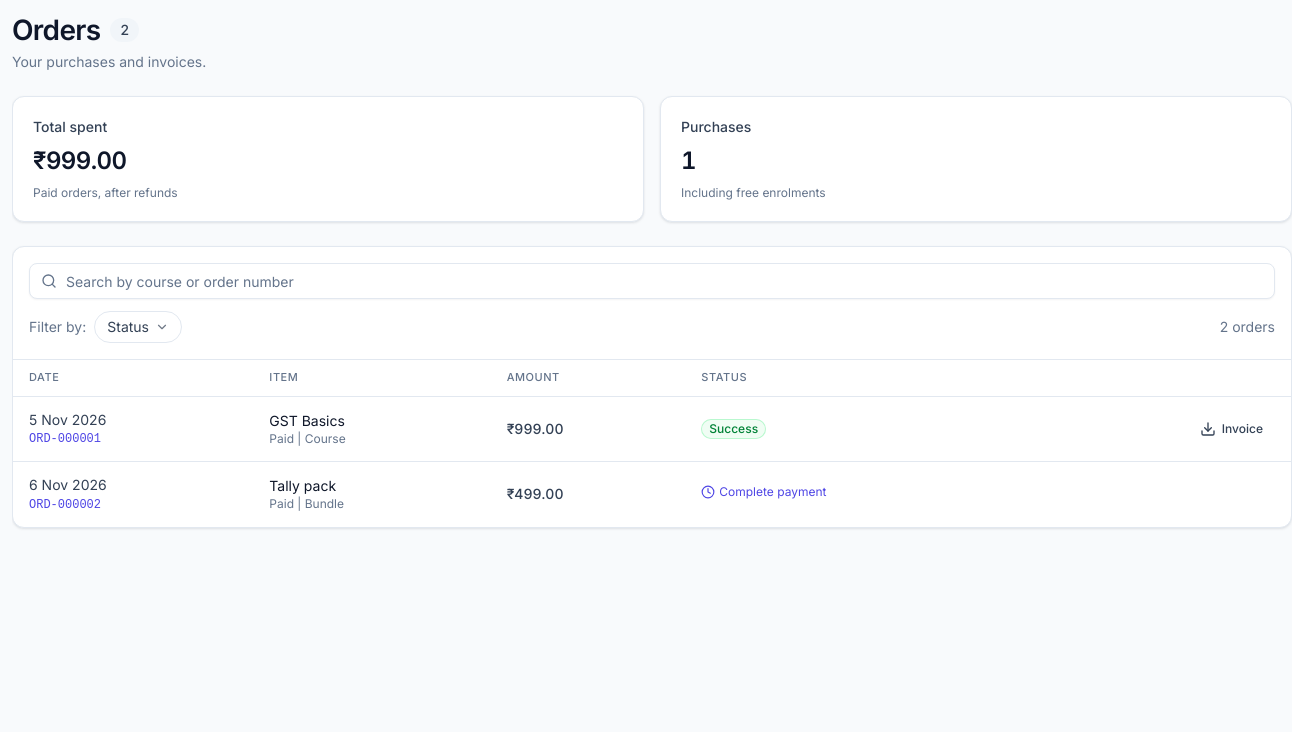
Test: student orders: totals, item type, filter by status and search
Expected: the text "₹999.00" below "Total spent" is shown, [33, 146, 126, 175]
Expected: the text "Paid | Bundle" is shown, [269, 496, 344, 512]
Click the button "Status" at [138, 327], box [94, 311, 182, 343]
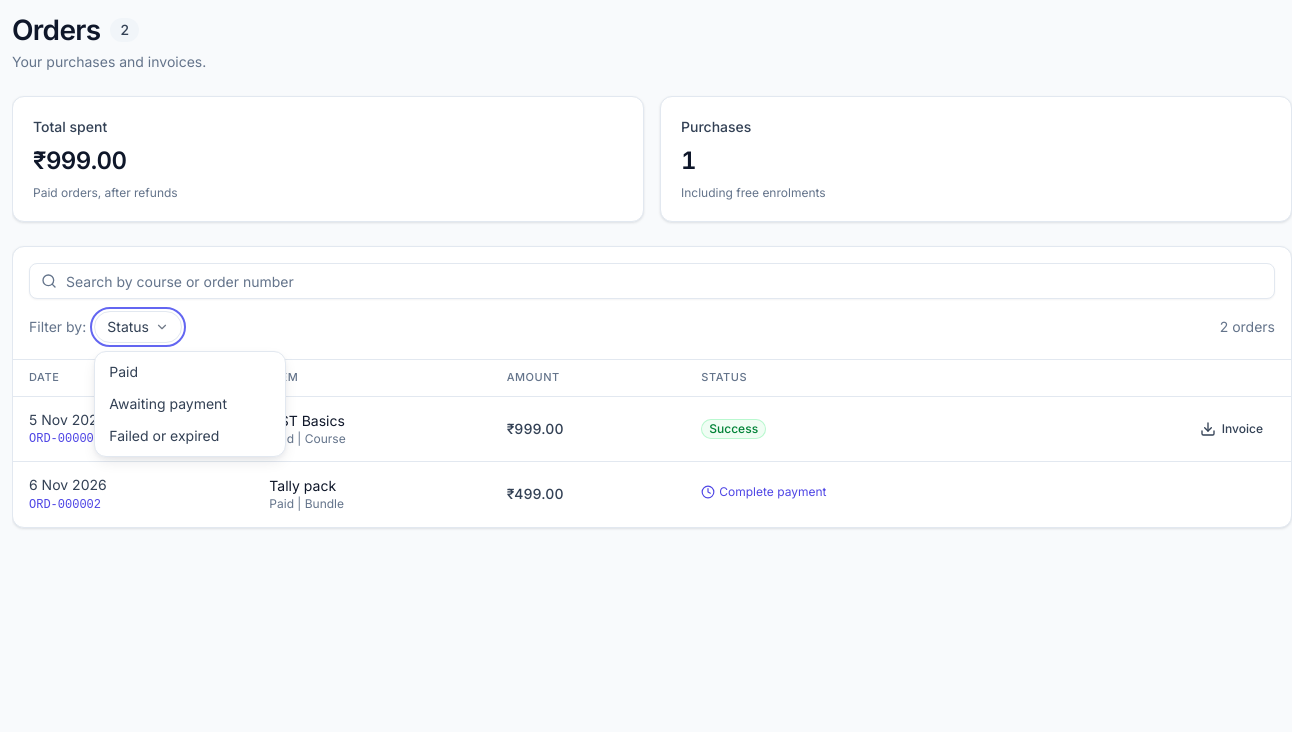
Click the menu item "Paid" at [190, 372], box [99, 356, 281, 388]
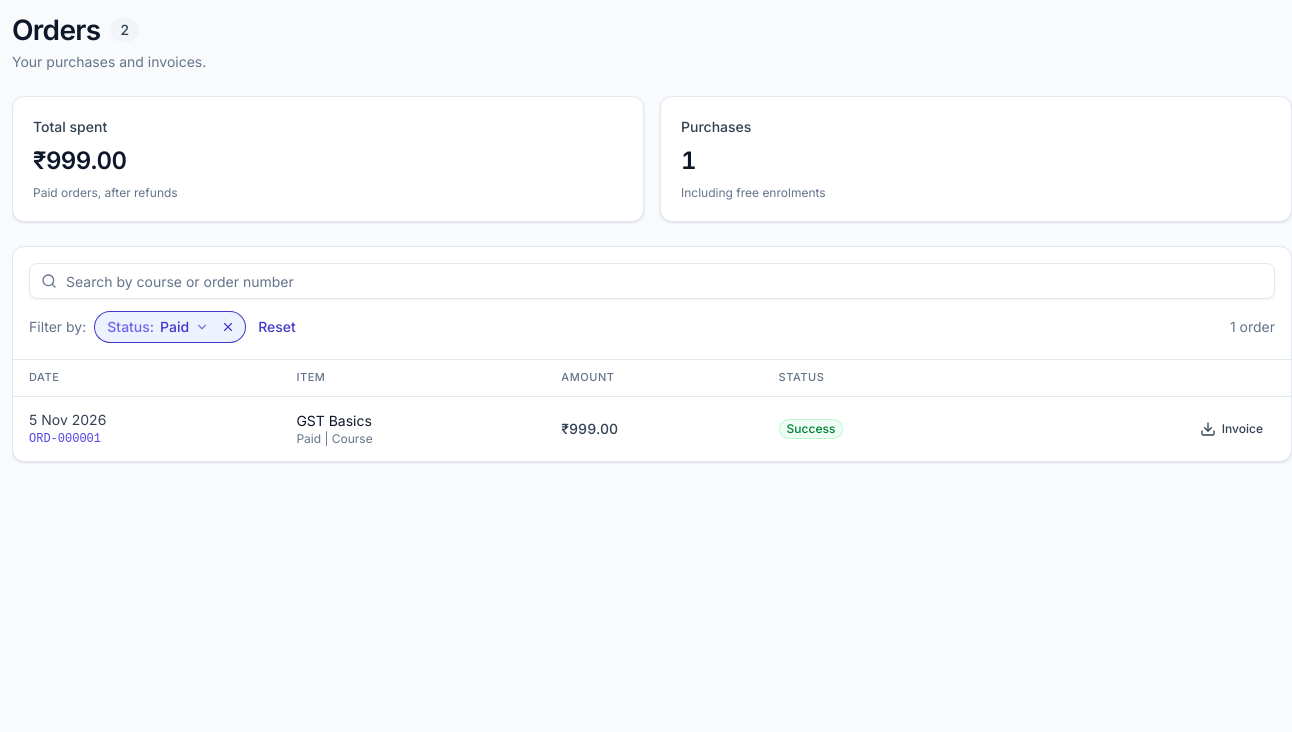
Expected: the text "GST Basics" is shown, [296, 412, 372, 429]
Now the text "Tally pack" is not shown
